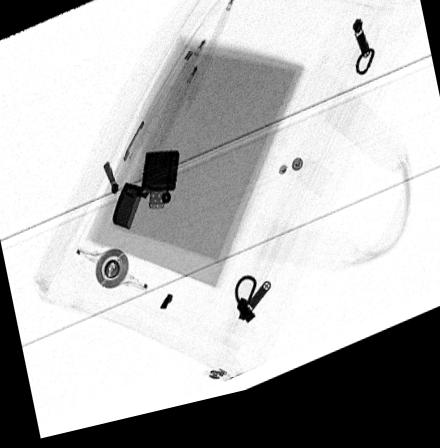Lighter: (110, 156, 179, 235)
